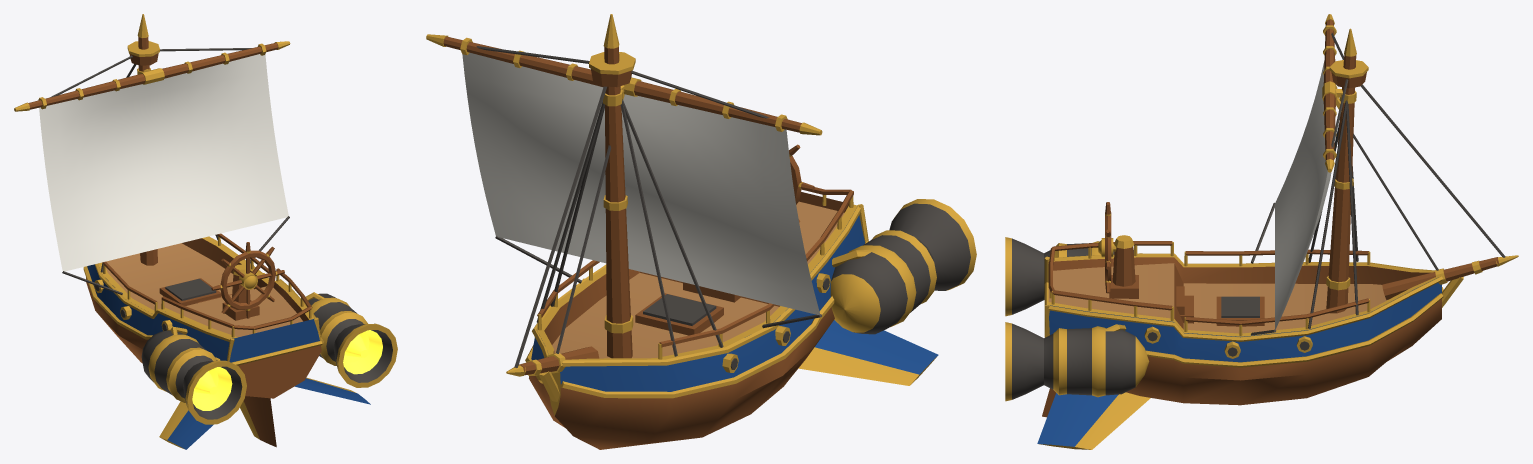
File: sky_galleon_custom.glb
3 renders of one model, left to right at view 1: azimuth 30°, elevation 25°; view 2: azimuth 150°, elevation 25°; view 3: azimuth 270°, elevation 25°, orthographic. The views are drawn at different scales.
Parts seen in each view (by area): view 1: FlagSail, Hull, SternRockets, MastRigging, HelmWheel; view 2: FlagSail, Hull, MastRigging, SternRockets; view 3: Hull, SternRockets, MastRigging, FlagSail, HelmWheel.
Part boxes in pixels (<box>): FlagSail: <box>39,54,288,271</box>; Hull: <box>83,233,370,449</box>; SternRockets: <box>141,292,397,424</box>; MastRigging: <box>14,14,290,294</box>; HelmWheel: <box>211,242,284,318</box>; FlagSail: <box>462,52,820,315</box>; Hull: <box>506,187,938,449</box>; MastRigging: <box>426,14,822,367</box>; SternRockets: <box>830,199,976,334</box>; Hull: <box>1037,235,1518,449</box>; SternRockets: <box>1005,237,1149,401</box>; MastRigging: <box>1251,14,1505,335</box>; FlagSail: <box>1275,60,1331,329</box>; HelmWheel: <box>1098,202,1113,293</box>.
Bounding box in the file's own units: 3.2 × 3.8 × 4.49.
